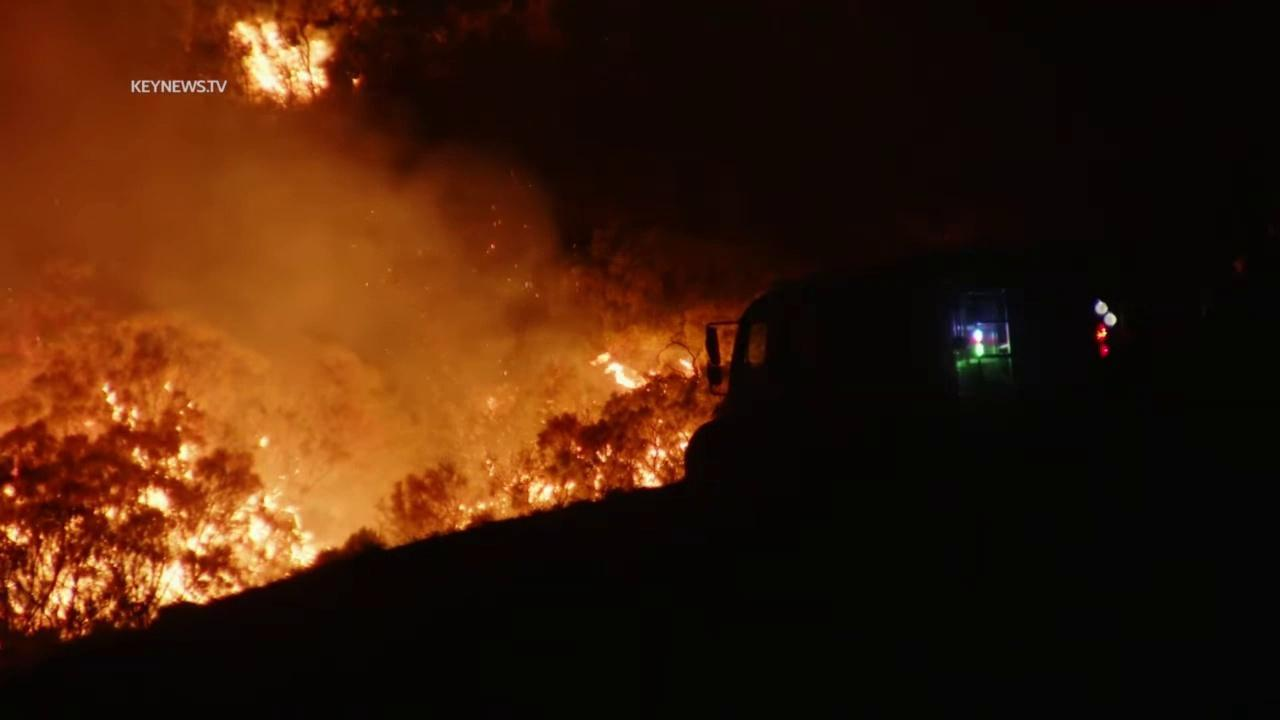fire: (0, 374, 326, 640), (227, 10, 345, 114), (452, 470, 581, 530), (618, 425, 694, 490), (582, 347, 654, 392), (592, 467, 608, 503), (594, 443, 613, 463), (678, 358, 700, 375)
smoke: (0, 0, 622, 550)
